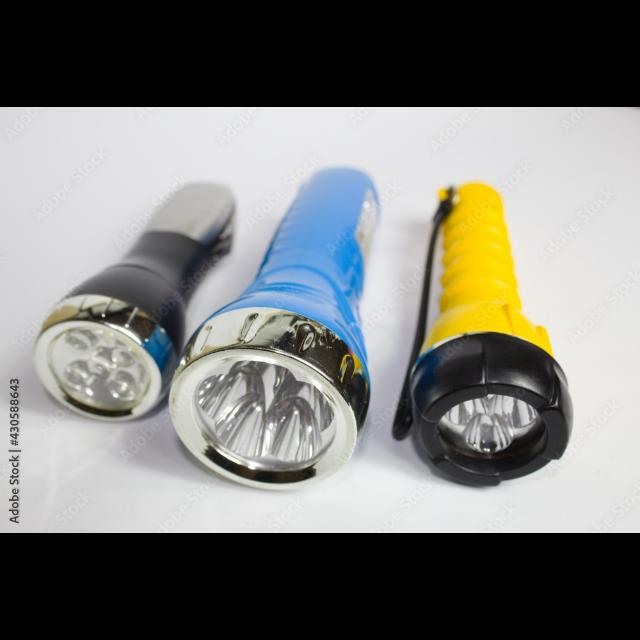Flashlight: (388, 174, 580, 496)
